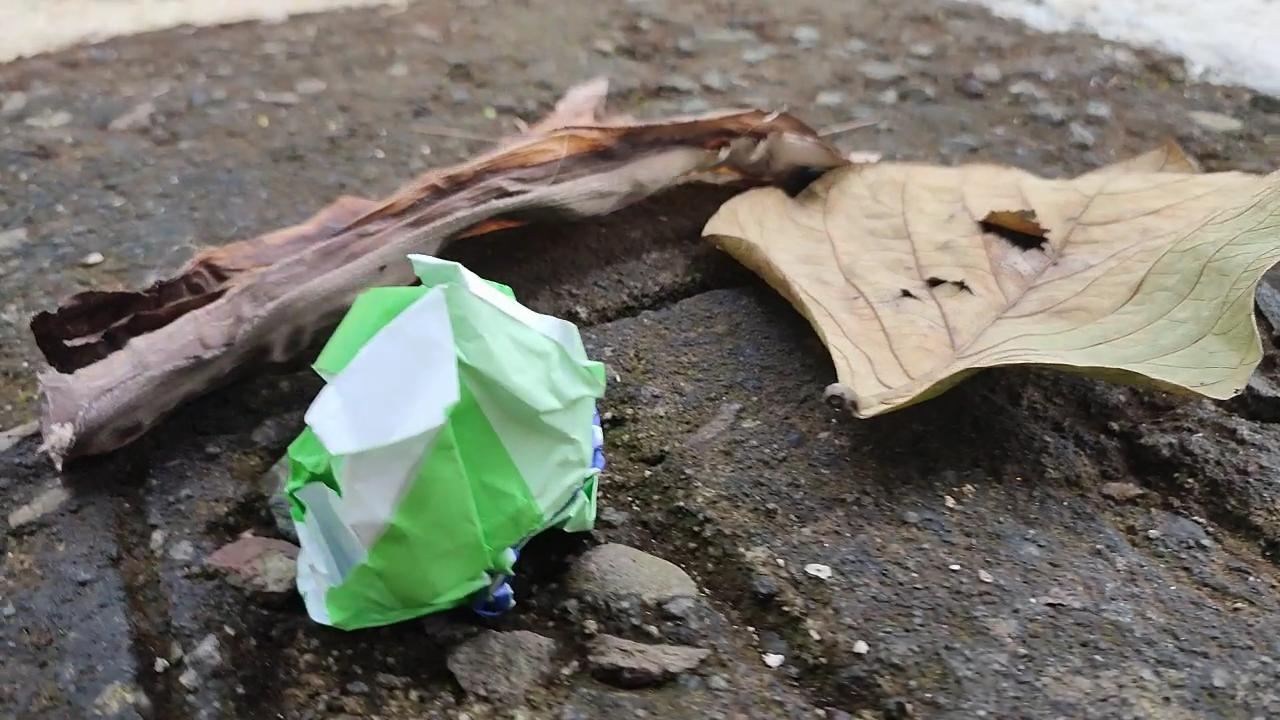Paper: (279, 242, 610, 637)
